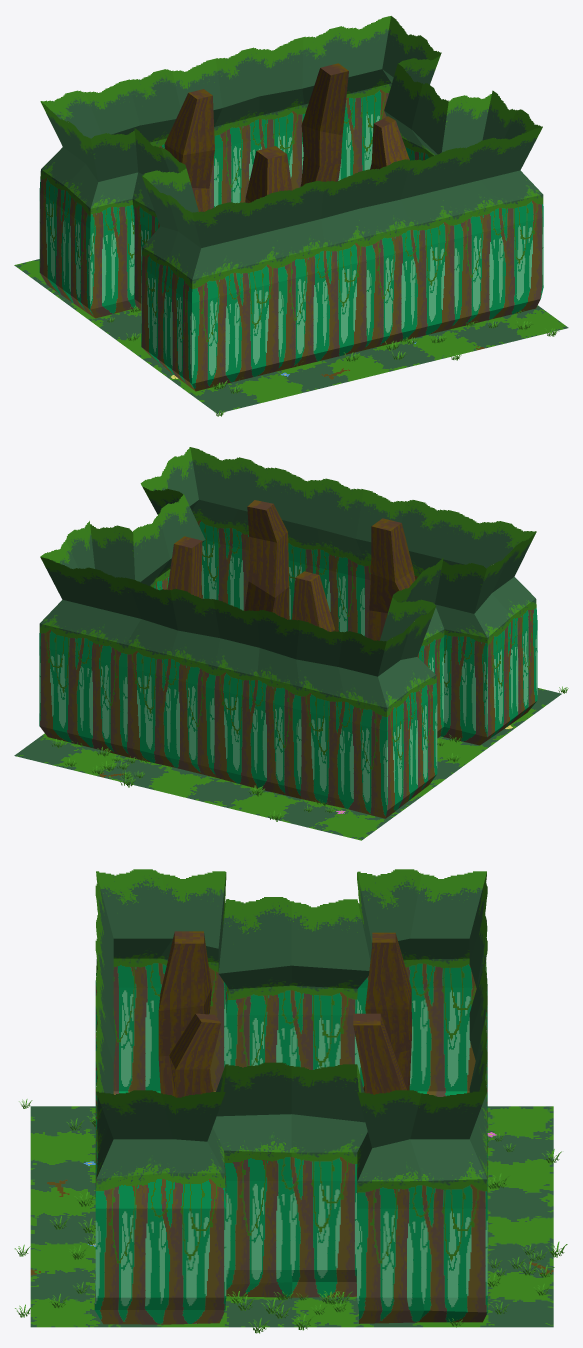
File: maps5.glb
3 renders of one model, top to bottom at view 1: azimuth 30°, elevation 25°; view 2: azimuth 150°, elevation 25°; view 3: azimuth 270°, elevation 25°, orthographic. The views are drawn at different scales.
Parts seen in each view (by area): view 1: 4 дерева, 4 дерева.001, 4 дерева.002, трава; view 2: 4 дерева, 4 дерева.001, 4 дерева.002, трава; view 3: 4 дерева, 4 дерева.001, 4 дерева.002, трава.
Boxes of the visible parts, <box> form: 4 дерева: <box>39,16,543,391</box>; 4 дерева.001: <box>14,259,568,413</box>; 4 дерева.002: <box>164,63,409,211</box>; трава: <box>106,305,559,416</box>; 4 дерева: <box>39,447,537,818</box>; 4 дерева.001: <box>14,688,561,840</box>; 4 дерева.002: <box>167,500,415,640</box>; трава: <box>50,686,568,821</box>; 4 дерева: <box>94,869,487,1324</box>; 4 дерева.001: <box>30,1106,553,1327</box>; 4 дерева.002: <box>158,931,411,1097</box>; трава: <box>14,1099,567,1333</box>.
Size of the model in its own units: 16.79 by 8.42 by 16.98.
Materials: 22 (18 with a texture image).
